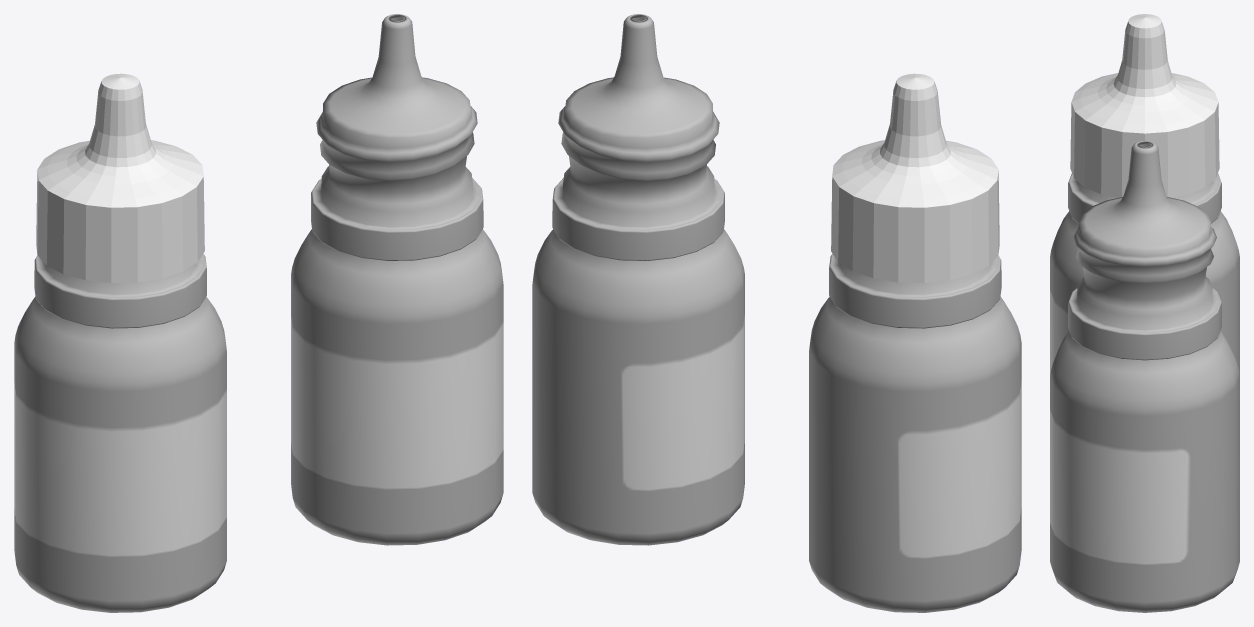
File: Plastic_Dropper_Bottle.fbx
3 views of the same model, side by side, from view 1: azimuth 30°, elevation 25°; view 2: azimuth 150°, elevation 25°; view 3: azimuth 270°, elevation 25° (orthographic). The views are drawn at different scales.
Parts seen in each view (by area): view 1: pCylinder8, pCylinder9, cap; view 2: pCylinder8, pCylinder9, cap; view 3: pCylinder8, cap, pCylinder9.
Part boxes in pixels (x1,y1,x2,y2): pCylinder8: (291, 14, 503, 545); pCylinder9: (14, 254, 226, 612); cap: (36, 73, 204, 282); pCylinder8: (532, 14, 744, 545); pCylinder9: (809, 254, 1021, 612); cap: (831, 73, 999, 282); pCylinder8: (1050, 141, 1239, 612); cap: (1070, 14, 1219, 197); pCylinder9: (1050, 173, 1239, 375).
Bounding box in the file's own units: 0.3645 × 0.3753 × 0.1461.
Materials: 1 (1 with a texture image).
